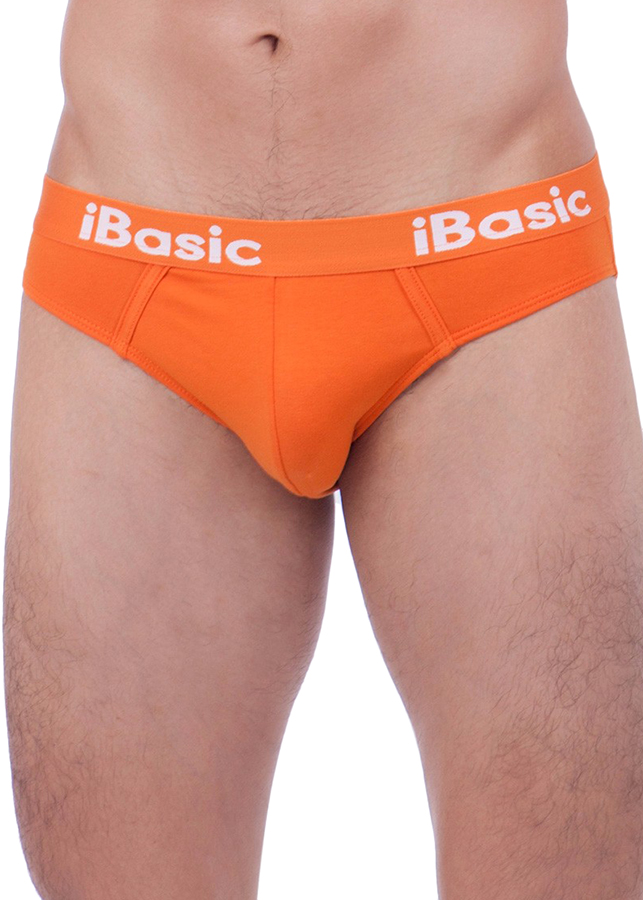iBasic: (68, 195, 267, 273), (406, 182, 599, 262)
